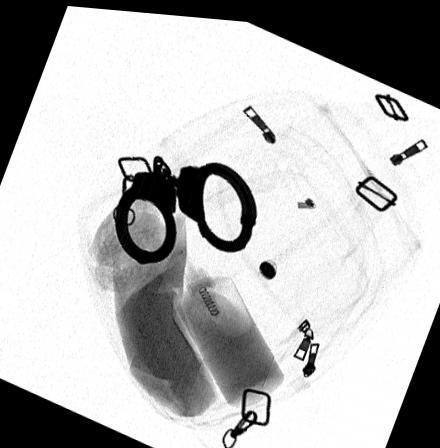HandCuffs: (113, 151, 256, 263)
